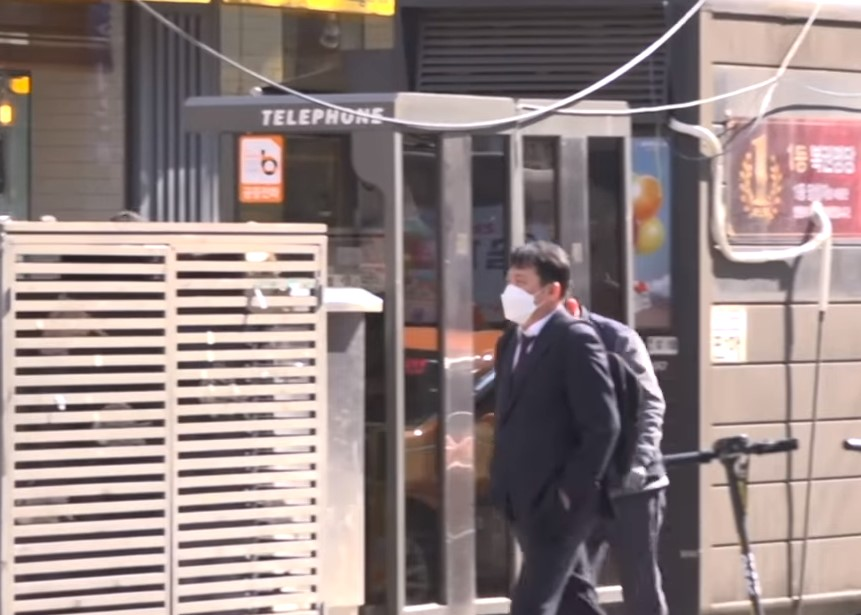face_with_mask: (497, 239, 574, 326)
